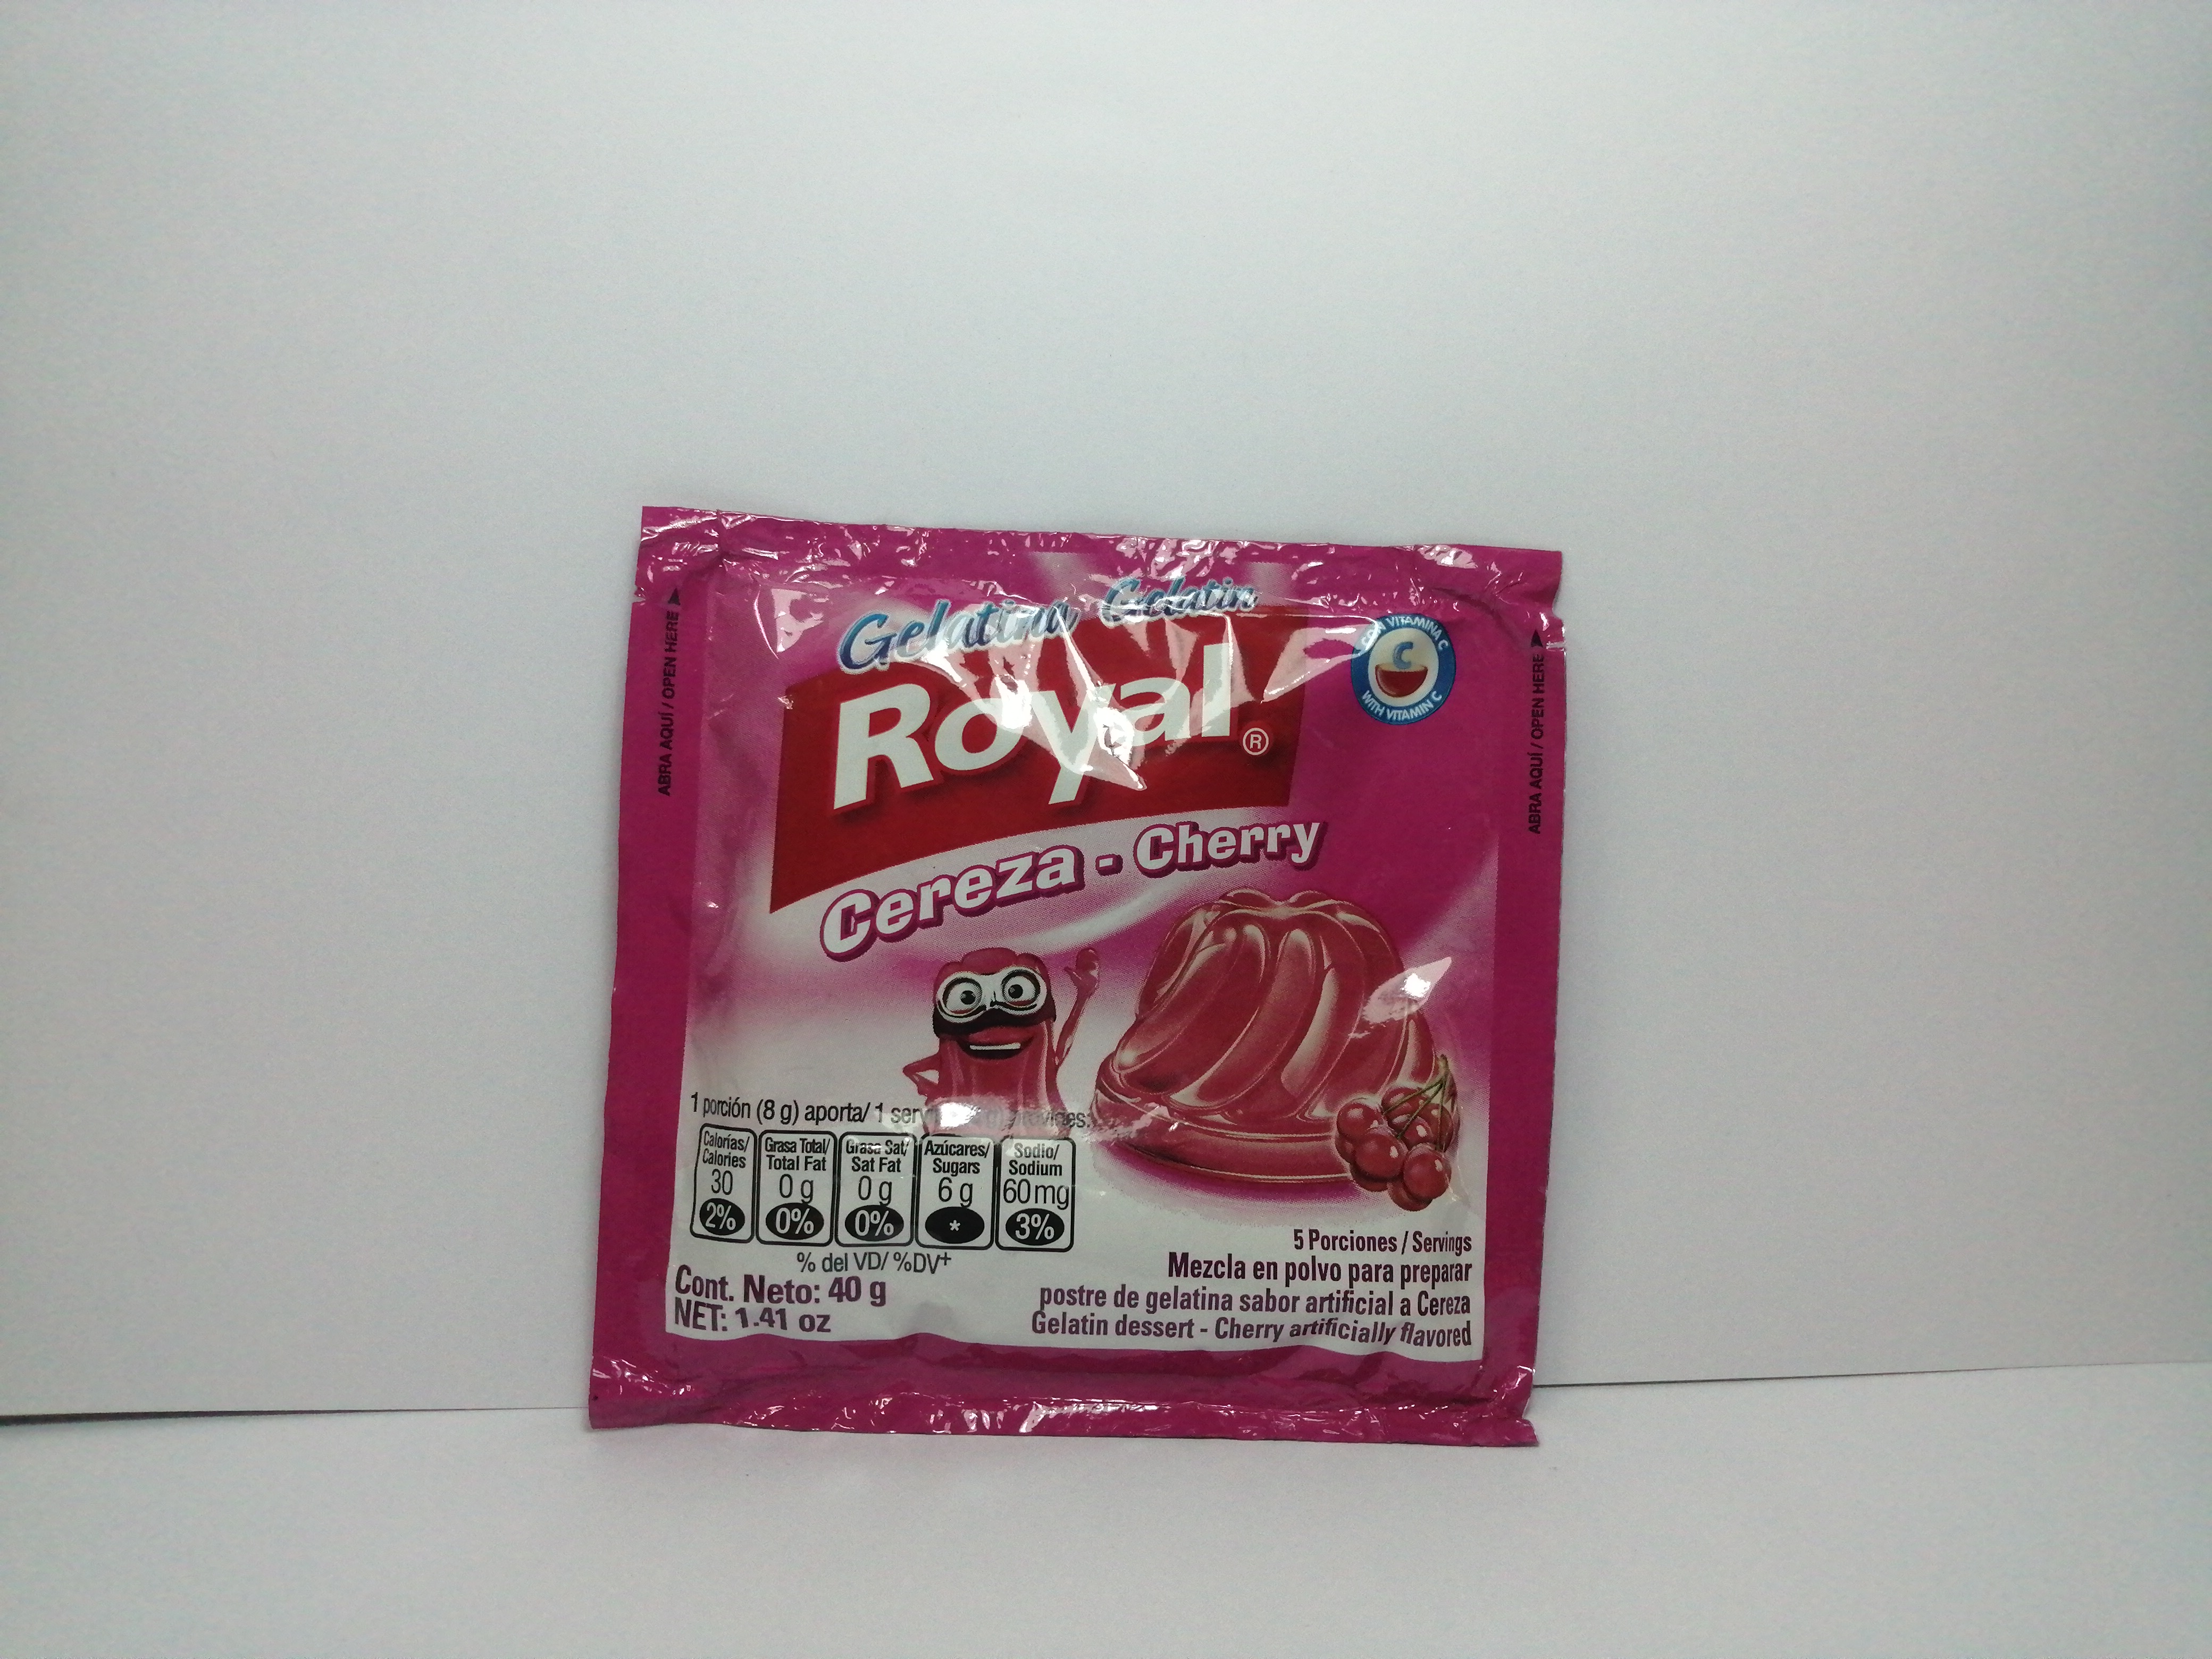gelatina: (587, 502, 1568, 1457)
